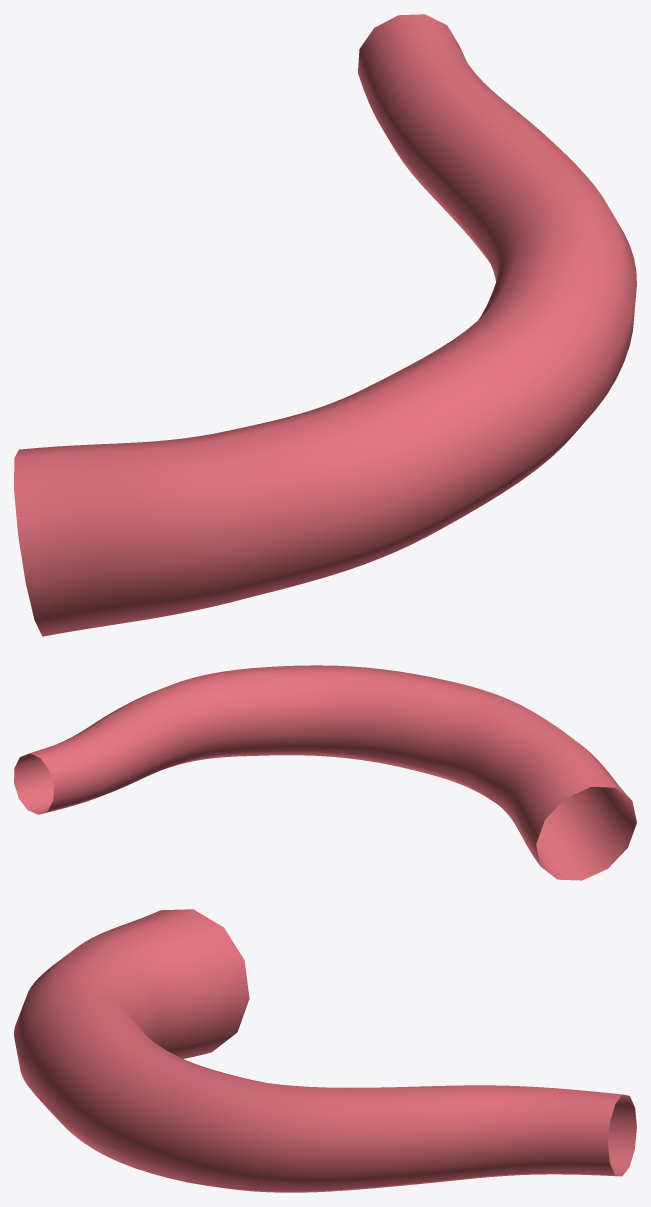
3 renders of one model, top to bottom at view 1: azimuth 30°, elevation 25°; view 2: azimuth 150°, elevation 25°; view 3: azimuth 270°, elevation 25°, orthographic. The views are drawn at different scales.
Parts seen in each view (by area): view 1: ZA_5d05cef0ae24bae2; view 2: ZA_5d05cef0ae24bae2; view 3: ZA_5d05cef0ae24bae2.
Part boxes in pixels (x1=…): ZA_5d05cef0ae24bae2: x1=14, y1=14, x2=636, y2=636; ZA_5d05cef0ae24bae2: x1=14, y1=665, x2=636, y2=880; ZA_5d05cef0ae24bae2: x1=14, y1=909, x2=636, y2=1192.
Size of the model in its own units: 0.0405 by 0.0134 by 0.0371.
